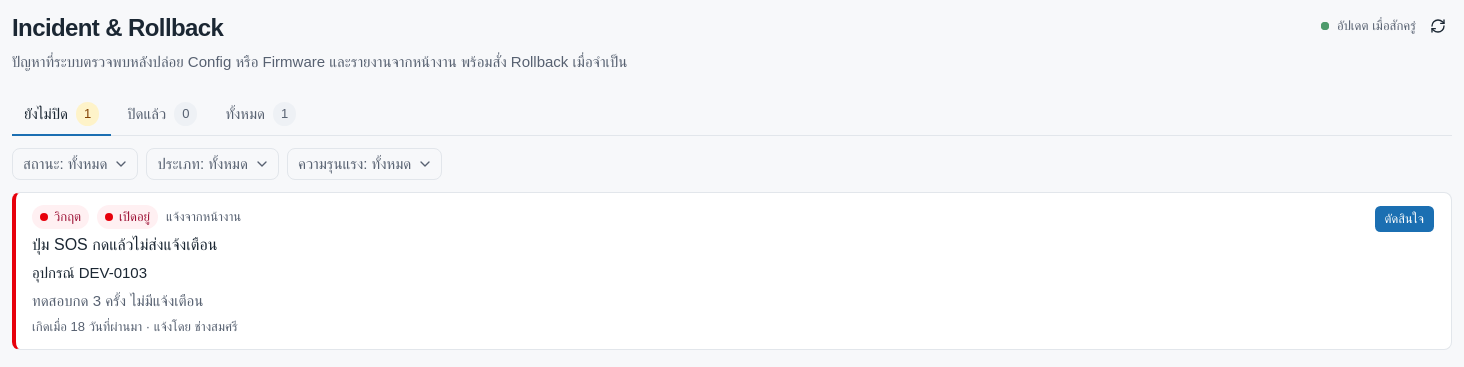
Test case: IncidentsView: แยกที่มาและผลกระทบ › กรองแล้วไม่เหลือรายการ: ขึ้นข้อความไม่พบที่ตรงกับเงื่อนไข
Click the dropdown labelled "ความรุนแรง: ทั้งหมด ▼" at [365, 164], box x1=287 y1=148 x2=442 y2=180
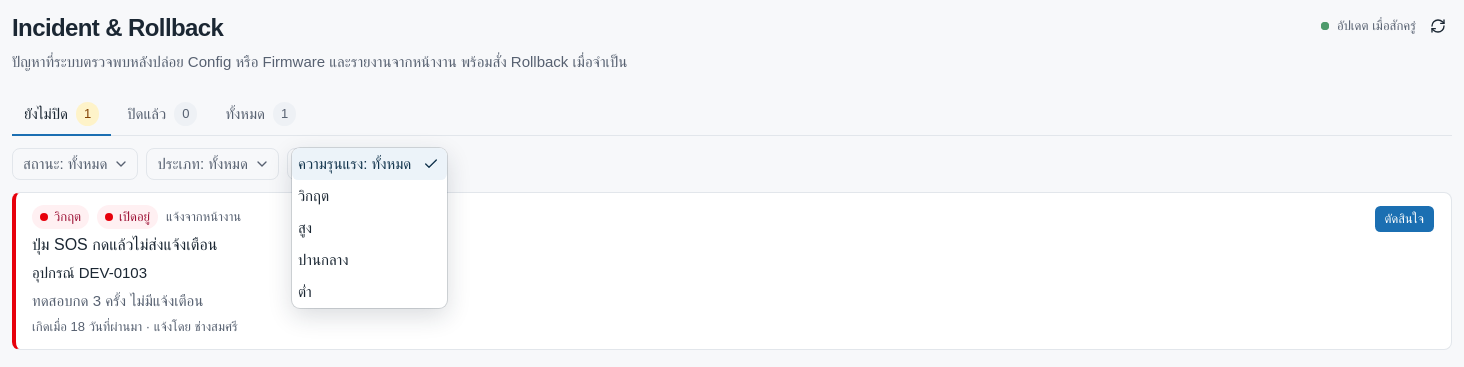
Click the option "ต่ำ" at [305, 292], box x1=298 y1=283 x2=312 y2=300
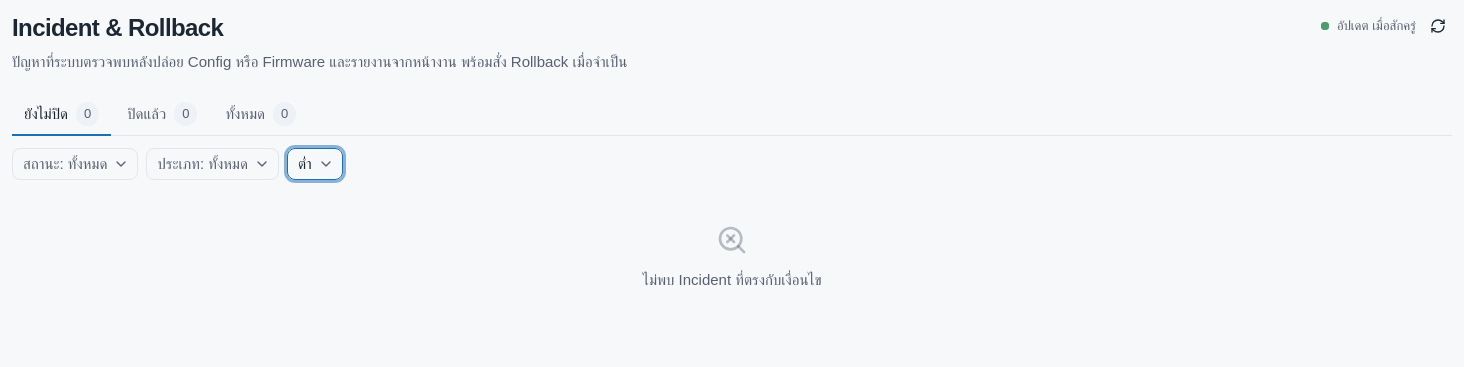
Expected: the text "ไม่พบ Incident ที่ตรงกับเงื่อนไข" is shown, x1=642 y1=268 x2=821 y2=292
